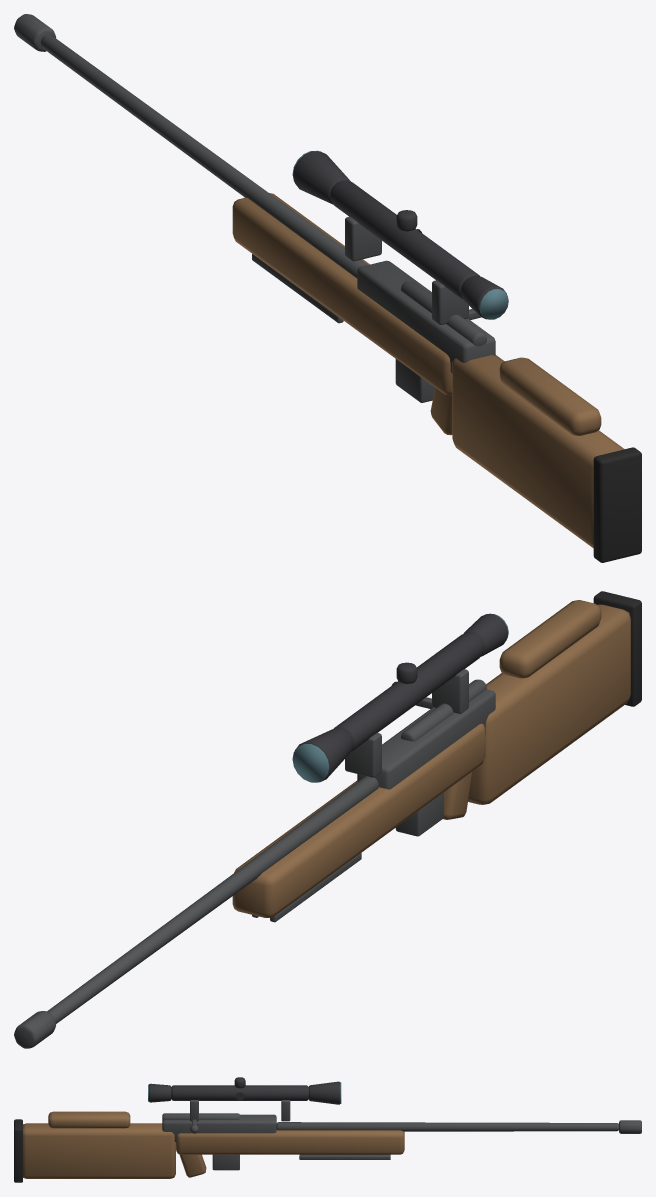
File: arma_sniper.glb
The picture shows the model from 3 angles, top to bottom: view 1: azimuth 30°, elevation 25°; view 2: azimuth 150°, elevation 25°; view 3: azimuth 270°, elevation 25°; orthographic projection. The views are drawn at different scales.
Visible parts, largest first — view 1: torre_l; view 2: torre_l; view 3: torre_l.
Part boxes in pixels (x1,y1,x2,y2): torre_l: (14,14,641,562); torre_l: (14,591,641,1048); torre_l: (14,1077,641,1182).
Size of the model in its own units: 0.0955 by 0.24 by 1.38.
